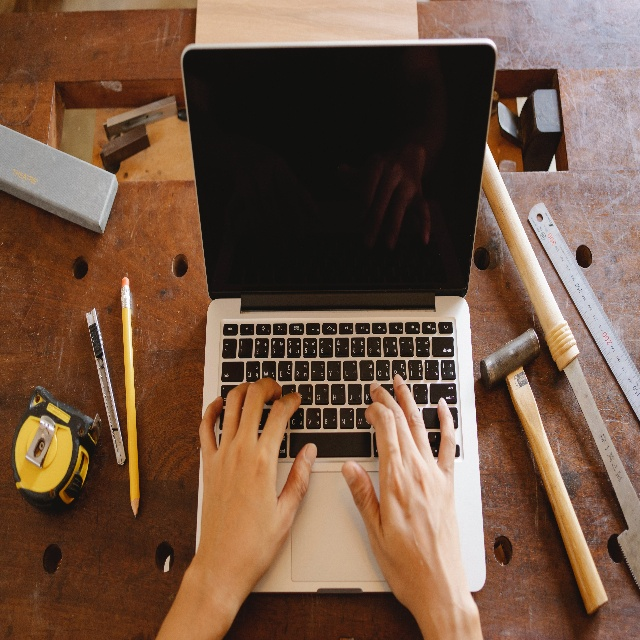Sin_guantes: (341, 373, 465, 613), (195, 377, 317, 611)
